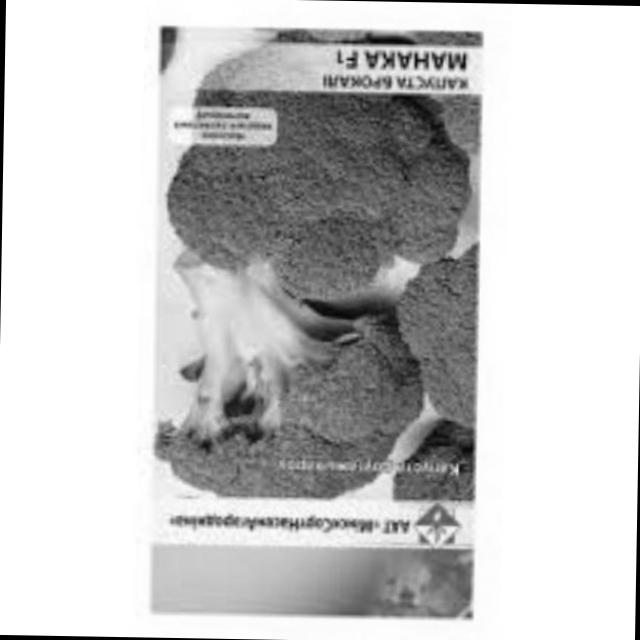bong cai xanh: (148, 56, 489, 310), (154, 272, 424, 514), (402, 256, 491, 534)
